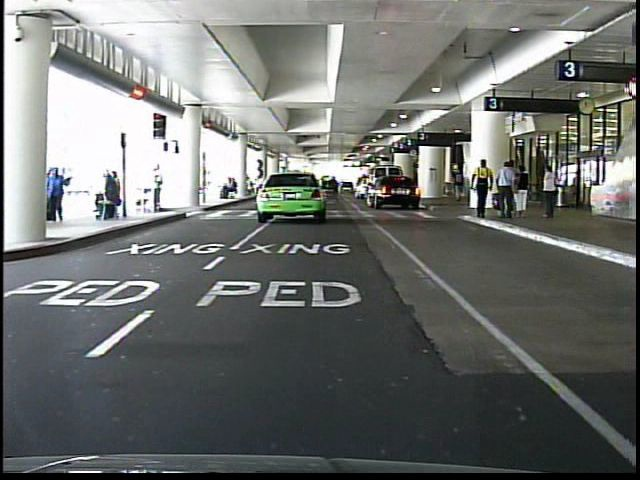person: (540, 161, 568, 229), (49, 163, 76, 226), (469, 156, 492, 225), (495, 158, 517, 223), (146, 163, 171, 219), (514, 160, 530, 218), (452, 165, 467, 203)
